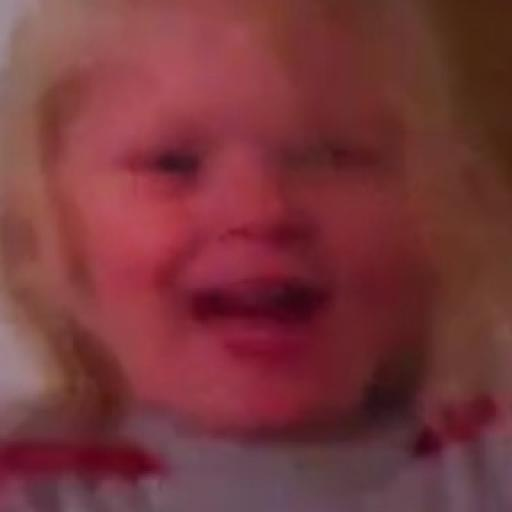Autism: (56, 17, 457, 456)
